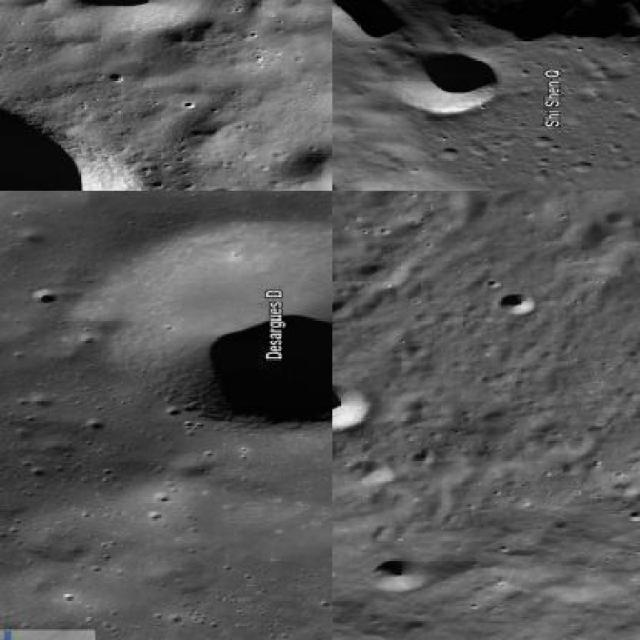crater: (332, 0, 638, 189), (78, 219, 331, 426), (0, 99, 160, 190), (390, 49, 504, 112), (68, 0, 192, 31), (332, 0, 407, 38), (332, 382, 371, 431), (372, 557, 425, 591), (498, 292, 534, 314)
